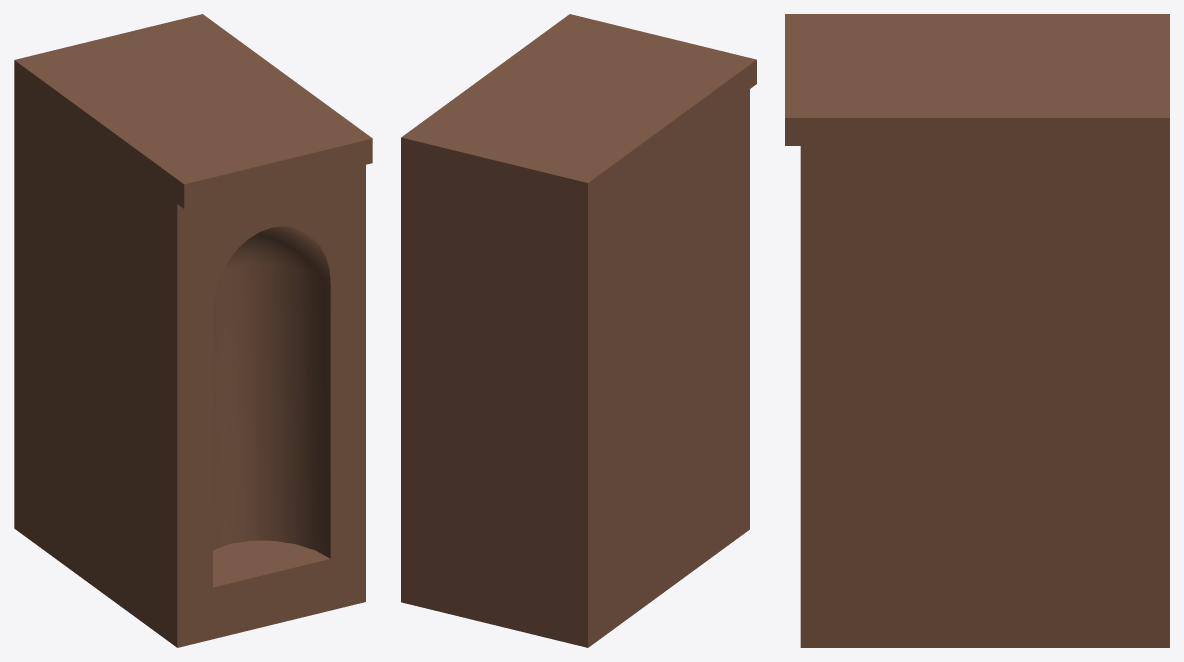
Rendered from Niche.fbx.
3 renders of one model, left to right at view 1: azimuth 30°, elevation 25°; view 2: azimuth 150°, elevation 25°; view 3: azimuth 270°, elevation 25°, orthographic. The views are drawn at different scales.
Parts seen in each view (by area): view 1: column.niche; view 2: column.niche; view 3: column.niche.
Part boxes in pixels (bbox=[...]): column.niche: bbox=[14, 14, 372, 647]; column.niche: bbox=[401, 14, 756, 647]; column.niche: bbox=[785, 14, 1169, 647].
Bounding box in the file's own units: 4 × 9.5 × 6.25.
